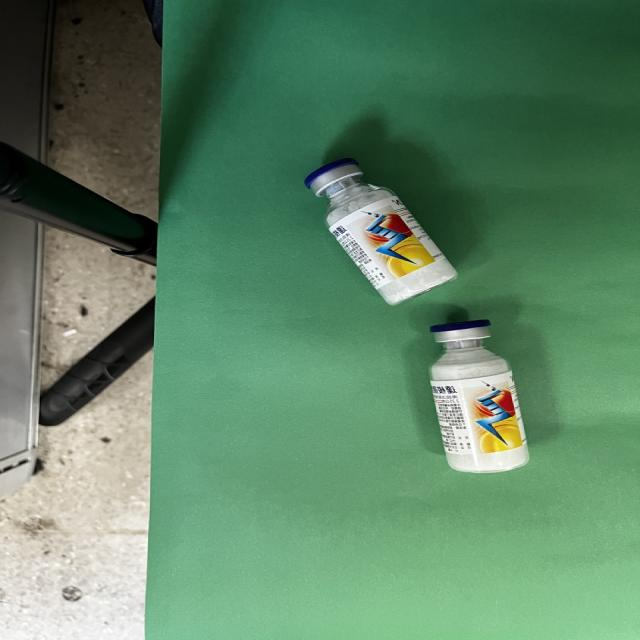Vials: (304, 158, 457, 305), (430, 320, 529, 472)
